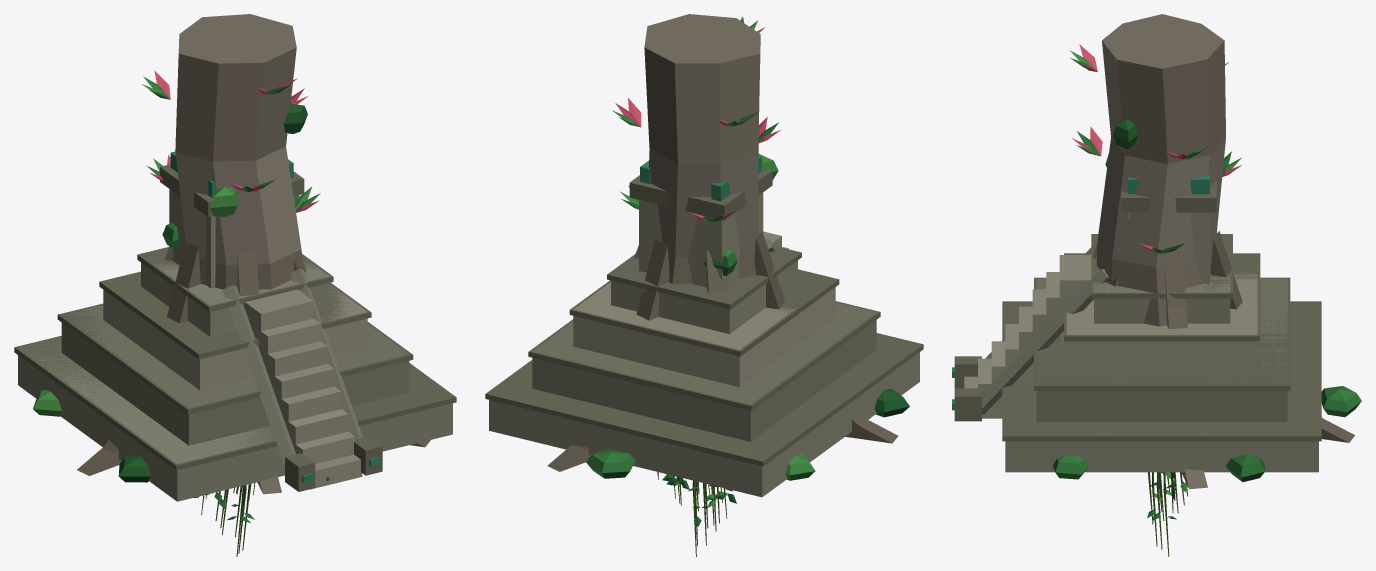
Rendered from cenote.glb.
The picture shows the model from 3 angles, left to right: view 1: azimuth 30°, elevation 25°; view 2: azimuth 150°, elevation 25°; view 3: azimuth 270°, elevation 25°; orthographic projection.
Visible parts, largest first — view 1: cenote_step_shrine_a, cenote_ceiba_roots_a, cenote_hanging_vines_b; view 2: cenote_step_shrine_a, cenote_ceiba_roots_a; view 3: cenote_step_shrine_a, cenote_ceiba_roots_a, cenote_hanging_vines_b, cenote_hanging_vines_a.
Part boxes in pixels (left/top/right/bottom): cenote_step_shrine_a: left=14, top=151, right=456, bottom=501; cenote_ceiba_roots_a: left=77, top=14, right=430, bottom=494; cenote_hanging_vines_b: left=219, top=484, right=254, bottom=556; cenote_step_shrine_a: left=485, top=156, right=923, bottom=497; cenote_ceiba_roots_a: left=547, top=14, right=898, bottom=471; cenote_step_shrine_a: left=952, top=175, right=1361, bottom=481; cenote_ceiba_roots_a: left=1069, top=14, right=1354, bottom=489; cenote_hanging_vines_b: left=1148, top=472, right=1187, bottom=556; cenote_hanging_vines_a: left=1147, top=472, right=1187, bottom=546.
Size of the model in its own units: 2.8 by 4.15 by 3.
